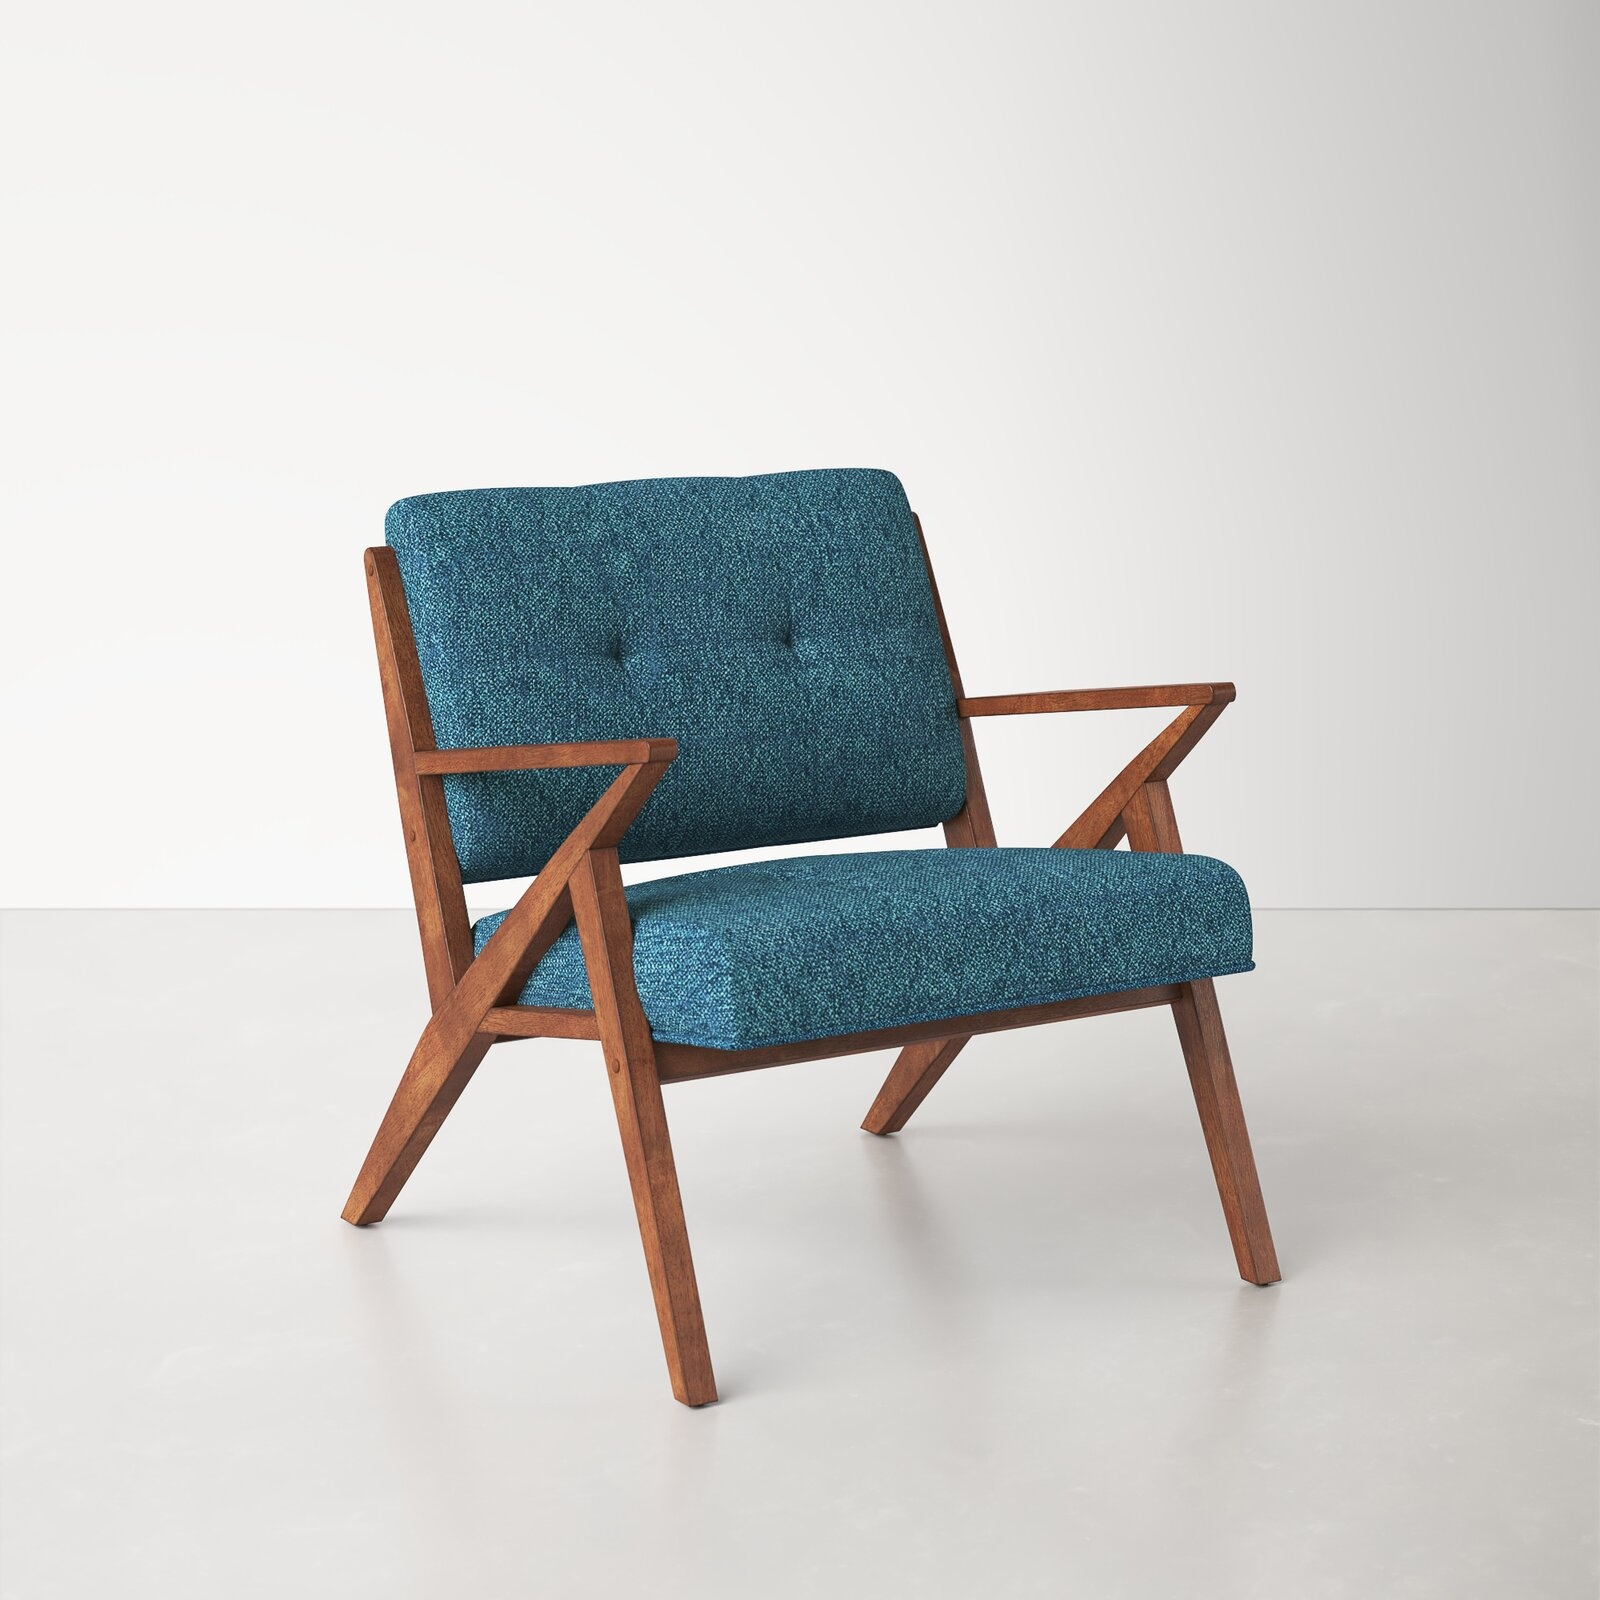obstacle: (343, 469, 1278, 1405)
